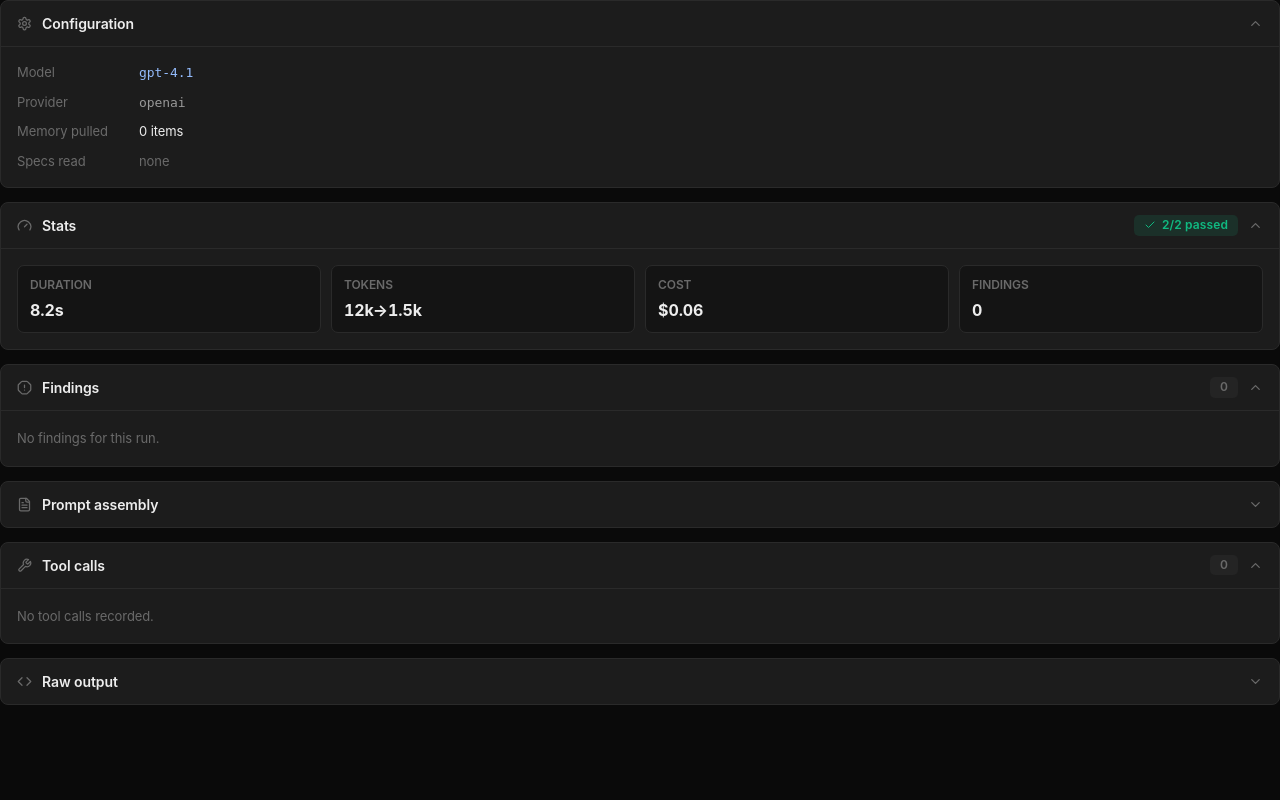
TraceBody — project context attribution (A6, A9) › shows the specs block's note with count, token size and paths, and the replay caveat (C15)
The width and height of the screenshot is (1280, 800).
Click the text "Prompt assembly" at [100, 504], box left=42, top=496, right=158, bottom=512
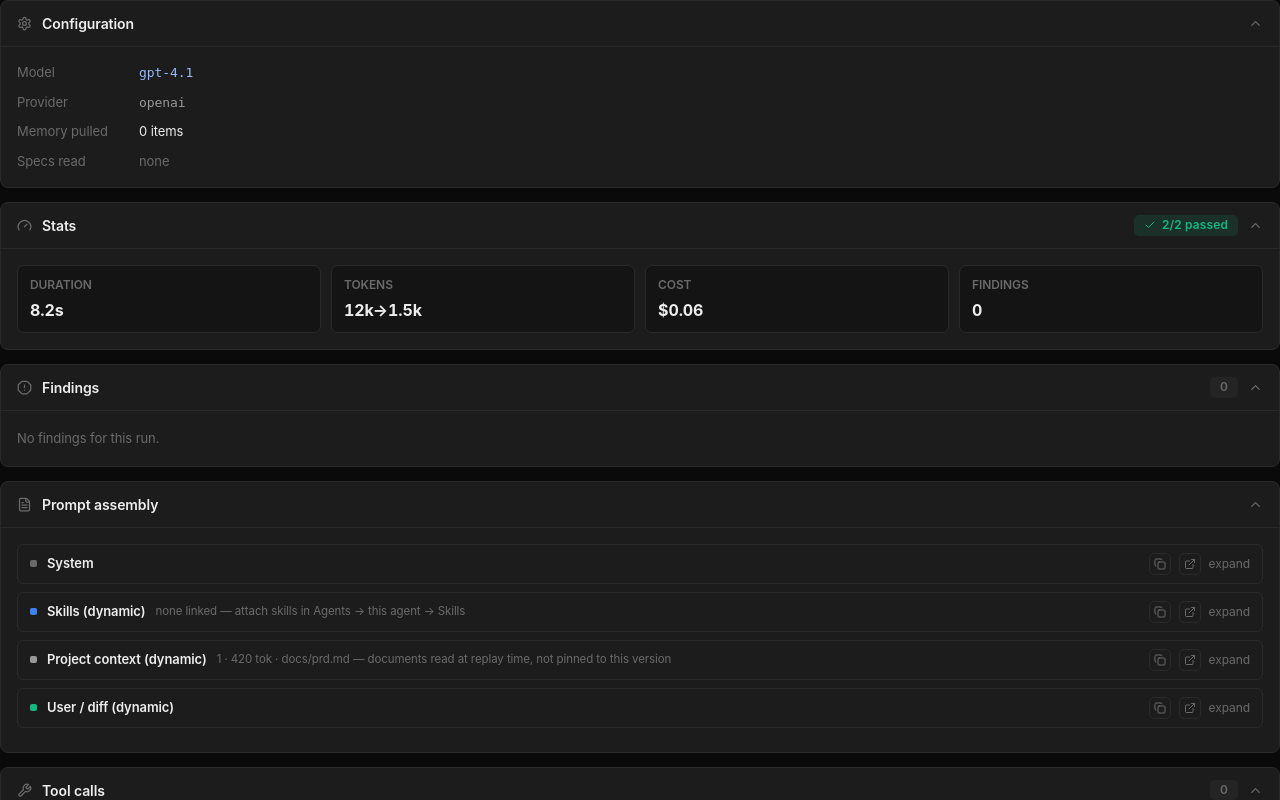
Now the text "1 · 420 tok · docs/prd.md — documents read at replay time, not pinned to this version" is shown, box left=217, top=652, right=671, bottom=666
